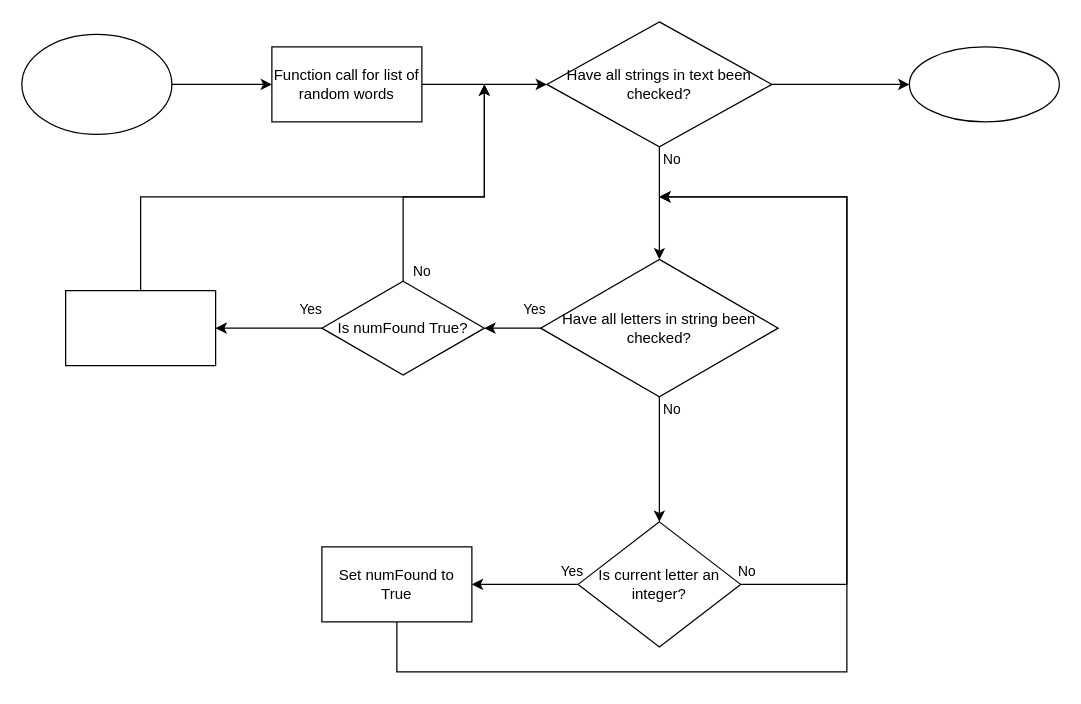
Image size: 1081x704. Some labels were removed from this diagram. Each missing label, with the box of its shape:
Method called: (21, 33, 172, 134)
Remove current string from list: (64, 289, 216, 366)
Return list of strings: (908, 46, 1059, 122)
